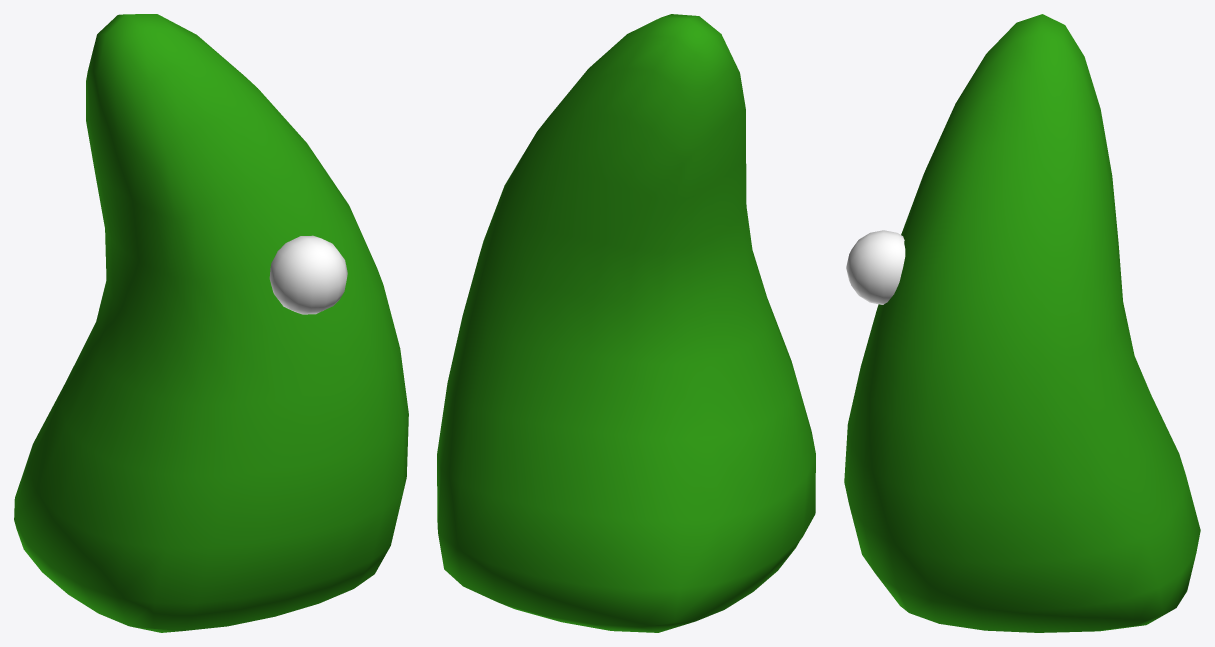
The model's file is Slime_06.fbx.
The picture shows the model from 3 angles, left to right: view 1: azimuth 30°, elevation 25°; view 2: azimuth 150°, elevation 25°; view 3: azimuth 270°, elevation 25°; orthographic projection. The views are drawn at different scales.
Parts seen in each view (by area): view 1: Slime_06; view 2: Slime_06; view 3: Slime_06.
Boxes of the visible parts, box(x1,y1,x2,y2) form: Slime_06: box(14, 14, 408, 632); Slime_06: box(437, 14, 815, 632); Slime_06: box(844, 14, 1200, 632).
Size of the model in its own units: 0.6324 by 1.11 by 0.6511.
